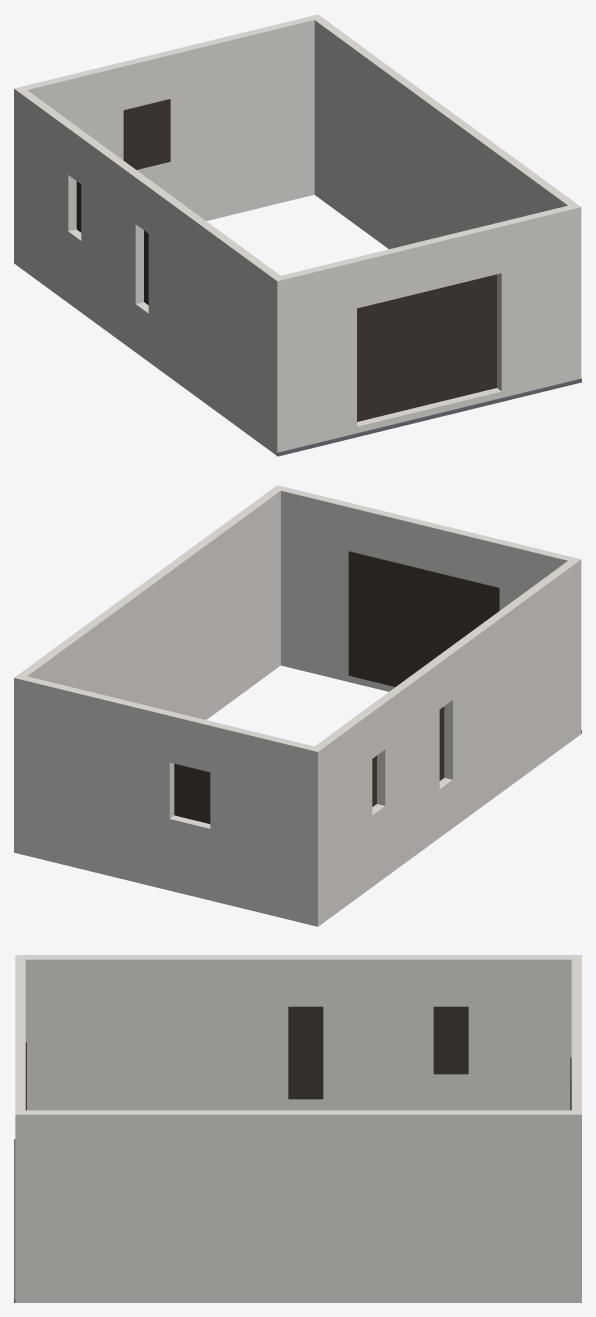
The model's file is SM_Floor_NarrowUpperBalconyEndL_White_546_Back_01.gltf.
3 views of the same model, one above another, from view 1: azimuth 30°, elevation 25°; view 2: azimuth 150°, elevation 25°; view 3: azimuth 270°, elevation 25° (orthographic). The views are drawn at different scales.
Parts seen in each view (by area): view 1: SM_Floor_NarrowUpperBalconyEndL_White_546_Back_01; view 2: SM_Floor_NarrowUpperBalconyEndL_White_546_Back_01; view 3: SM_Floor_NarrowUpperBalconyEndL_White_546_Back_01.
Boxes of the visible parts, bbox=[...] form: SM_Floor_NarrowUpperBalconyEndL_White_546_Back_01: bbox=[14, 14, 581, 456]; SM_Floor_NarrowUpperBalconyEndL_White_546_Back_01: bbox=[14, 485, 581, 926]; SM_Floor_NarrowUpperBalconyEndL_White_546_Back_01: bbox=[14, 955, 581, 1302].
Bounding box in the file's own units: 5.46 × 3 × 8.21.
1 material, 1 textured.
